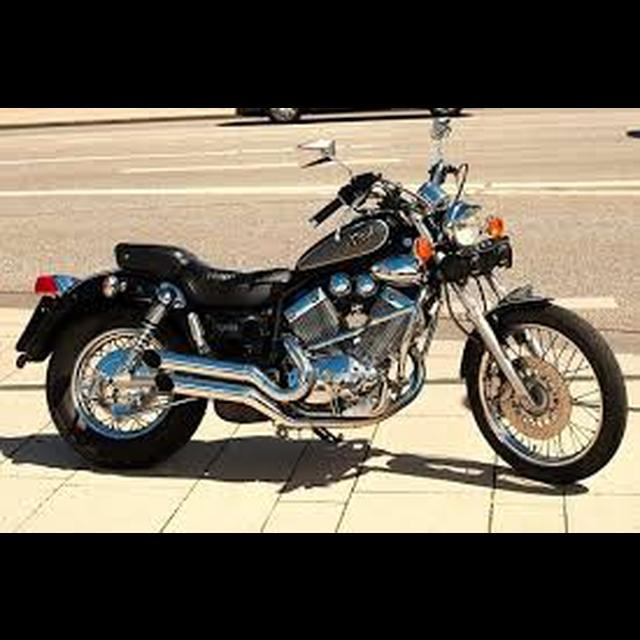motorcycle: (11, 111, 631, 490)
